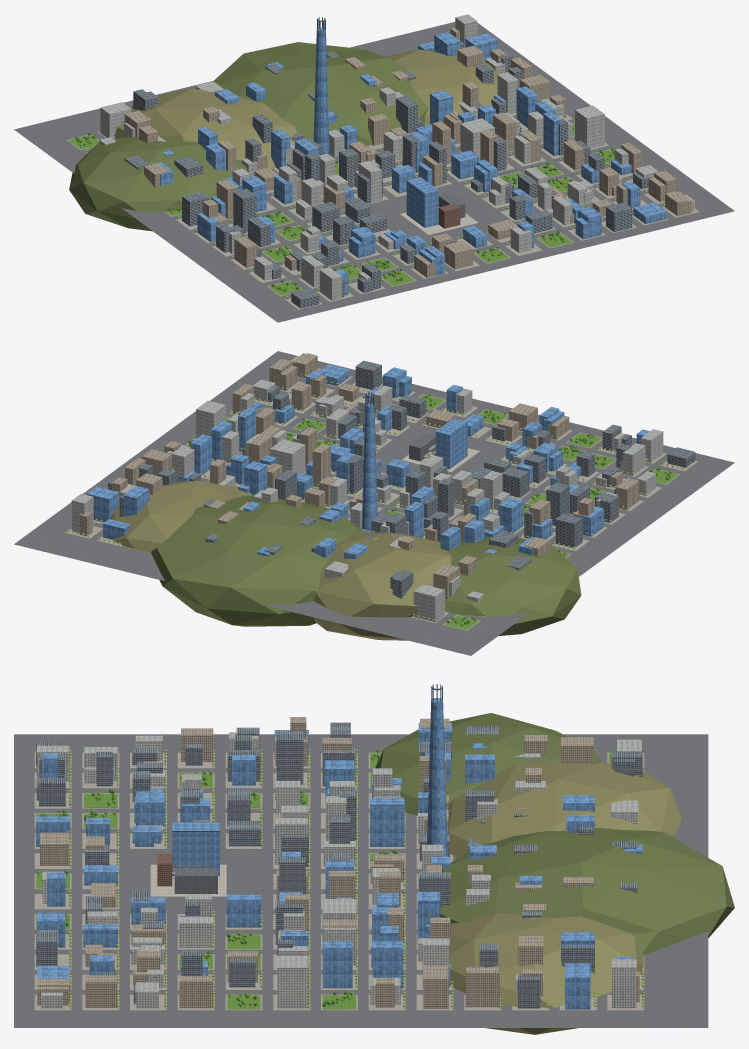
File: puentes.glb
3 renders of one model, top to bottom at view 1: azimuth 30°, elevation 25°; view 2: azimuth 150°, elevation 25°; view 3: azimuth 270°, elevation 25°, orthographic. The views are drawn at different scales.
Visible parts, largest first — view 1: calle, cerro2, ciudad2, ciudad3, ciudad1, ciudad4, cerro, vereda, pasto, costanera, vidrio, arbusto (+1 smaller); view 2: cerro2, calle, ciudad3, ciudad2, ciudad1, ciudad4, cerro, vereda, pasto, costanera, vidrio, hojas (+2 smaller); view 3: calle, cerro2, ciudad3, ciudad2, cerro, ciudad1, ciudad4, vereda, pasto, hojas, costanera, vidrio (+4 smaller).
Part boxes in pixels (bbox=[...]): calle: bbox=[14, 22, 734, 322]; cerro2: bbox=[69, 42, 428, 231]; ciudad2: bbox=[124, 34, 652, 308]; ciudad3: bbox=[158, 32, 666, 295]; ciudad1: bbox=[99, 14, 694, 300]; ciudad4: bbox=[124, 27, 691, 277]; cerro: bbox=[114, 49, 503, 168]; vereda: bbox=[67, 112, 699, 309]; pasto: bbox=[69, 123, 614, 295]; costanera: bbox=[313, 27, 329, 154]; vidrio: bbox=[406, 177, 438, 227]; arbusto: bbox=[76, 132, 614, 289]; cerro2: bbox=[151, 495, 581, 635]; calle: bbox=[14, 351, 734, 655]; ciudad3: bbox=[86, 364, 649, 559]; ciudad2: bbox=[108, 360, 695, 598]; ciudad1: bbox=[71, 356, 663, 621]; ciudad4: bbox=[79, 353, 639, 599]; cerro: bbox=[104, 480, 452, 640]; vereda: bbox=[66, 368, 698, 630]; pasto: bbox=[130, 394, 678, 629]; costanera: bbox=[361, 403, 377, 530]; vidrio: bbox=[435, 418, 467, 469]; hojas: bbox=[67, 374, 683, 620]; calle: bbox=[14, 734, 708, 1027]; cerro2: bbox=[375, 713, 734, 955]; ciudad3: bbox=[36, 723, 642, 1009]; ciudad2: bbox=[36, 722, 642, 1008]; cerro: bbox=[448, 763, 681, 1034]; ciudad1: bbox=[37, 732, 641, 1008]; ciudad4: bbox=[35, 717, 639, 1008]; vereda: bbox=[34, 752, 644, 1010]; pasto: bbox=[36, 753, 611, 1009]; hojas: bbox=[68, 749, 644, 1006]; costanera: bbox=[427, 698, 447, 856]; vidrio: bbox=[172, 822, 219, 876].
Bounding box in the file's own units: 659 × 247 × 665.
35 materials, 15 textured.
